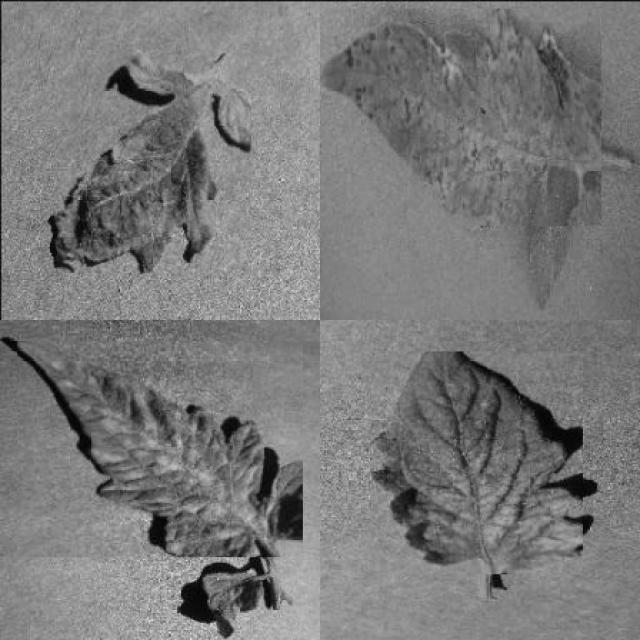Leaf Mold: (17, 340, 303, 557)
Mosaic Virus: (372, 352, 582, 574), (55, 50, 252, 273)
Septoria: (322, 8, 602, 225)
